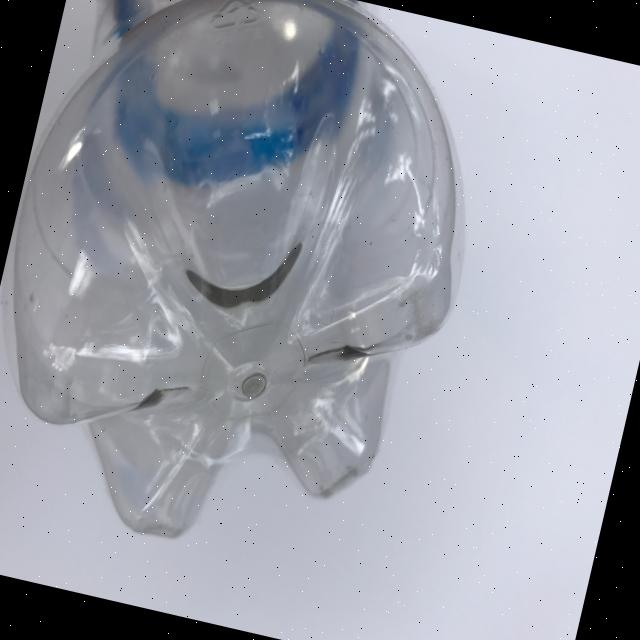plastic: (0, 0, 516, 590)
